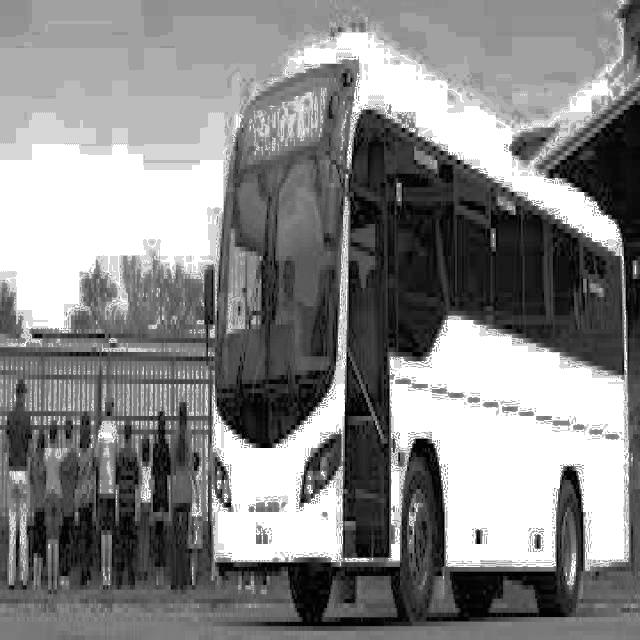Bus: (208, 9, 640, 631)
